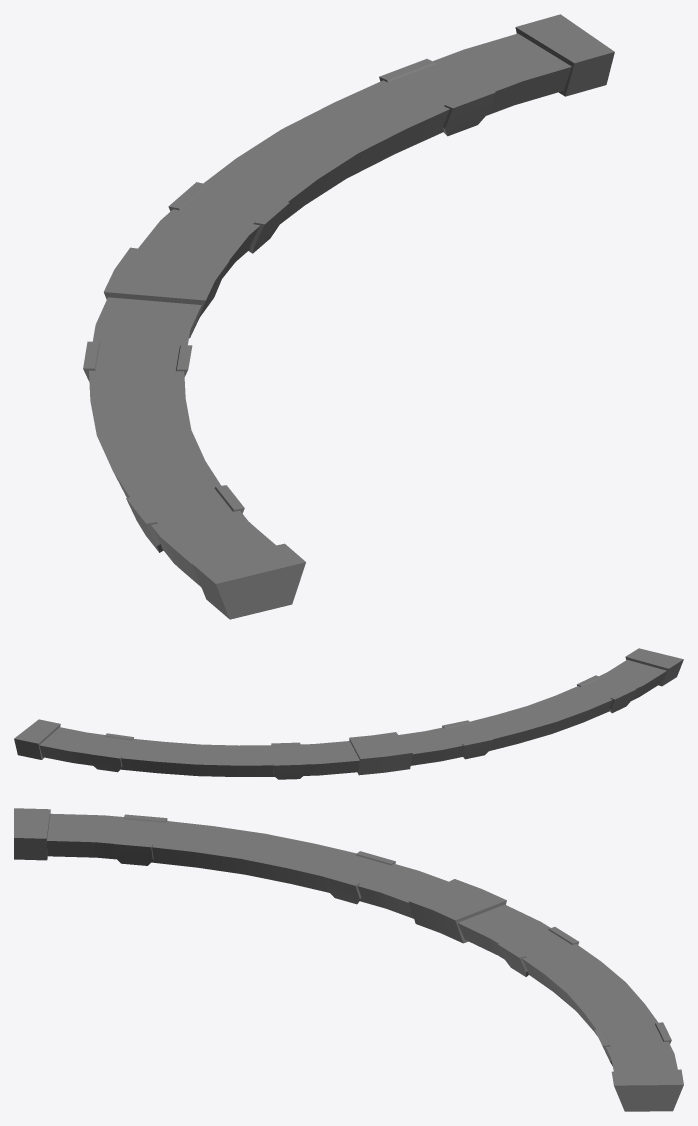
Rendered from q-scifi-mod-prop-light-corner.glb.
3 renders of one model, top to bottom at view 1: azimuth 30°, elevation 25°; view 2: azimuth 150°, elevation 25°; view 3: azimuth 270°, elevation 25°, orthographic. The views are drawn at different scales.
Parts seen in each view (by area): view 1: Prop_Light_Corner; view 2: Prop_Light_Corner; view 3: Prop_Light_Corner.
Part boxes in pixels (left/top/right/bottom): Prop_Light_Corner: left=83, top=14, right=614, bottom=619; Prop_Light_Corner: left=14, top=648, right=683, bottom=779; Prop_Light_Corner: left=14, top=808, right=683, bottom=1111.
Bounding box in the file's own units: 4.12 × 0.1819 × 4.21.
2 materials, 1 textured.
